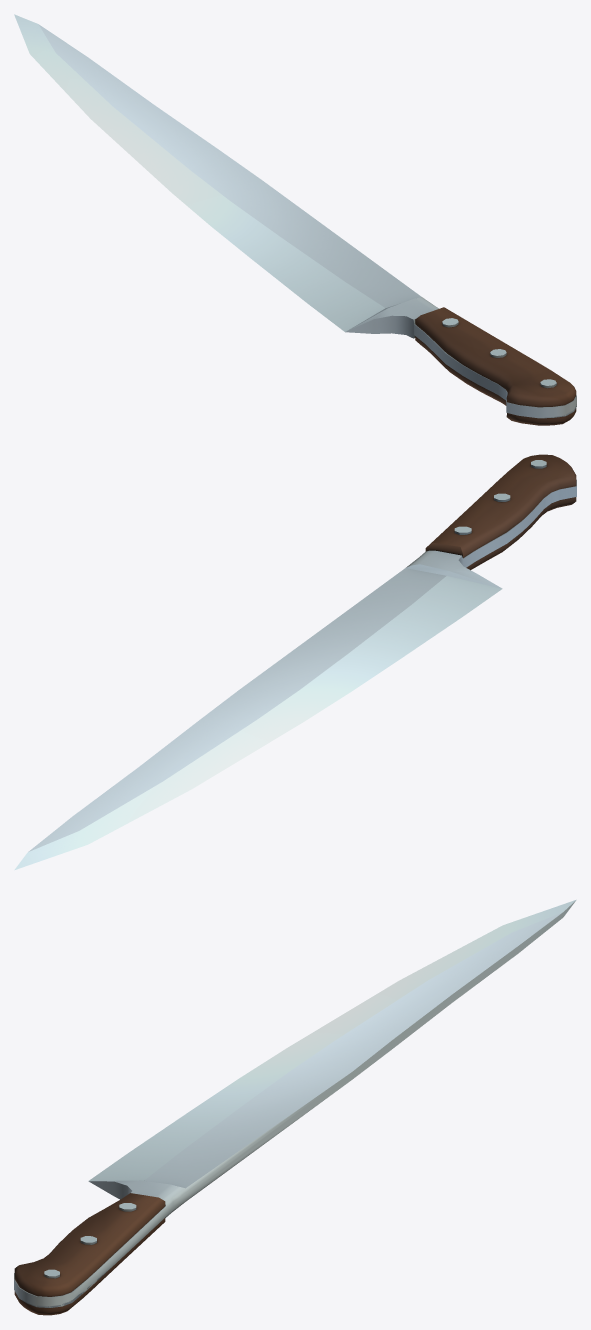
The model's file is нож.fbx.
3 views of the same model, one above another, from view 1: azimuth 30°, elevation 25°; view 2: azimuth 150°, elevation 25°; view 3: azimuth 330°, elevation 25° (orthographic).
Visible parts, largest first — view 1: Plane; view 2: Plane; view 3: Plane.
Part boxes in pixels (x1,y1,x2,y2): Plane: (14, 14, 576, 425); Plane: (14, 454, 576, 870); Plane: (14, 899, 576, 1315).
Size of the model in its own units: 96.53 by 29.31 by 851.
